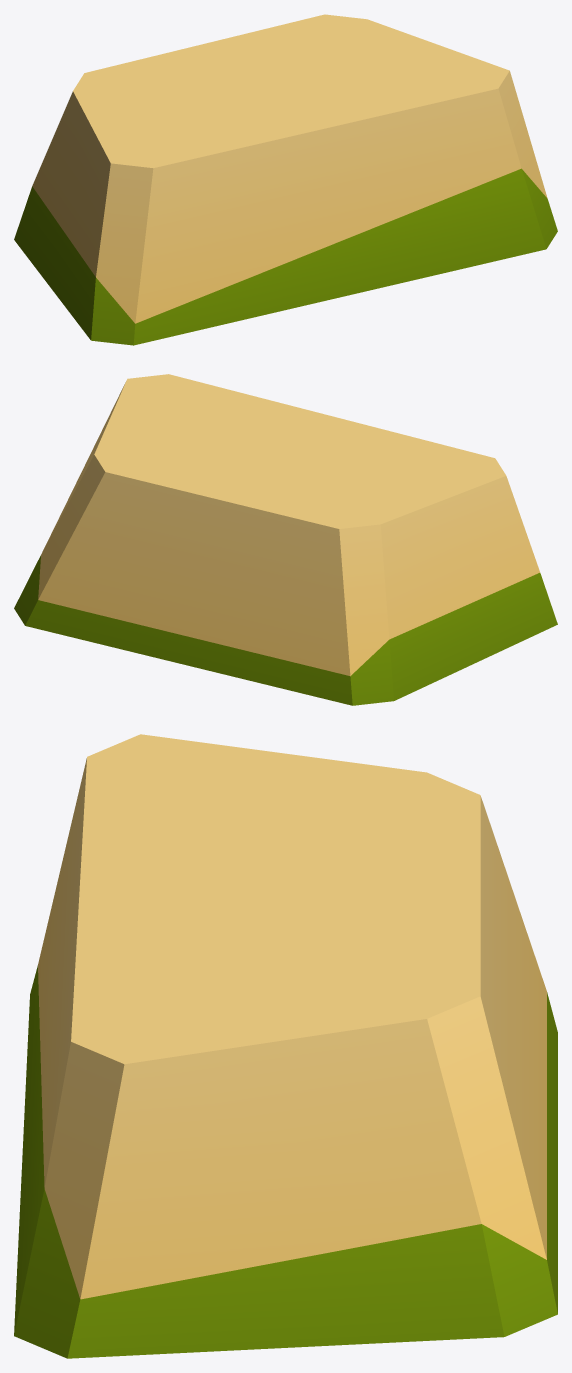
File: Rock_13.fbx
3 renders of one model, top to bottom at view 1: azimuth 30°, elevation 25°; view 2: azimuth 150°, elevation 25°; view 3: azimuth 270°, elevation 25°, orthographic. The views are drawn at different scales.
Visible parts, largest first — view 1: Rock_13; view 2: Rock_13; view 3: Rock_13.
Part boxes in pixels (x1=…): Rock_13: x1=14, y1=14, x2=557, y2=345; Rock_13: x1=14, y1=374, x2=557, y2=705; Rock_13: x1=14, y1=734, x2=557, y2=1358.
Bounding box in the file's own units: 758 × 245 × 451.
